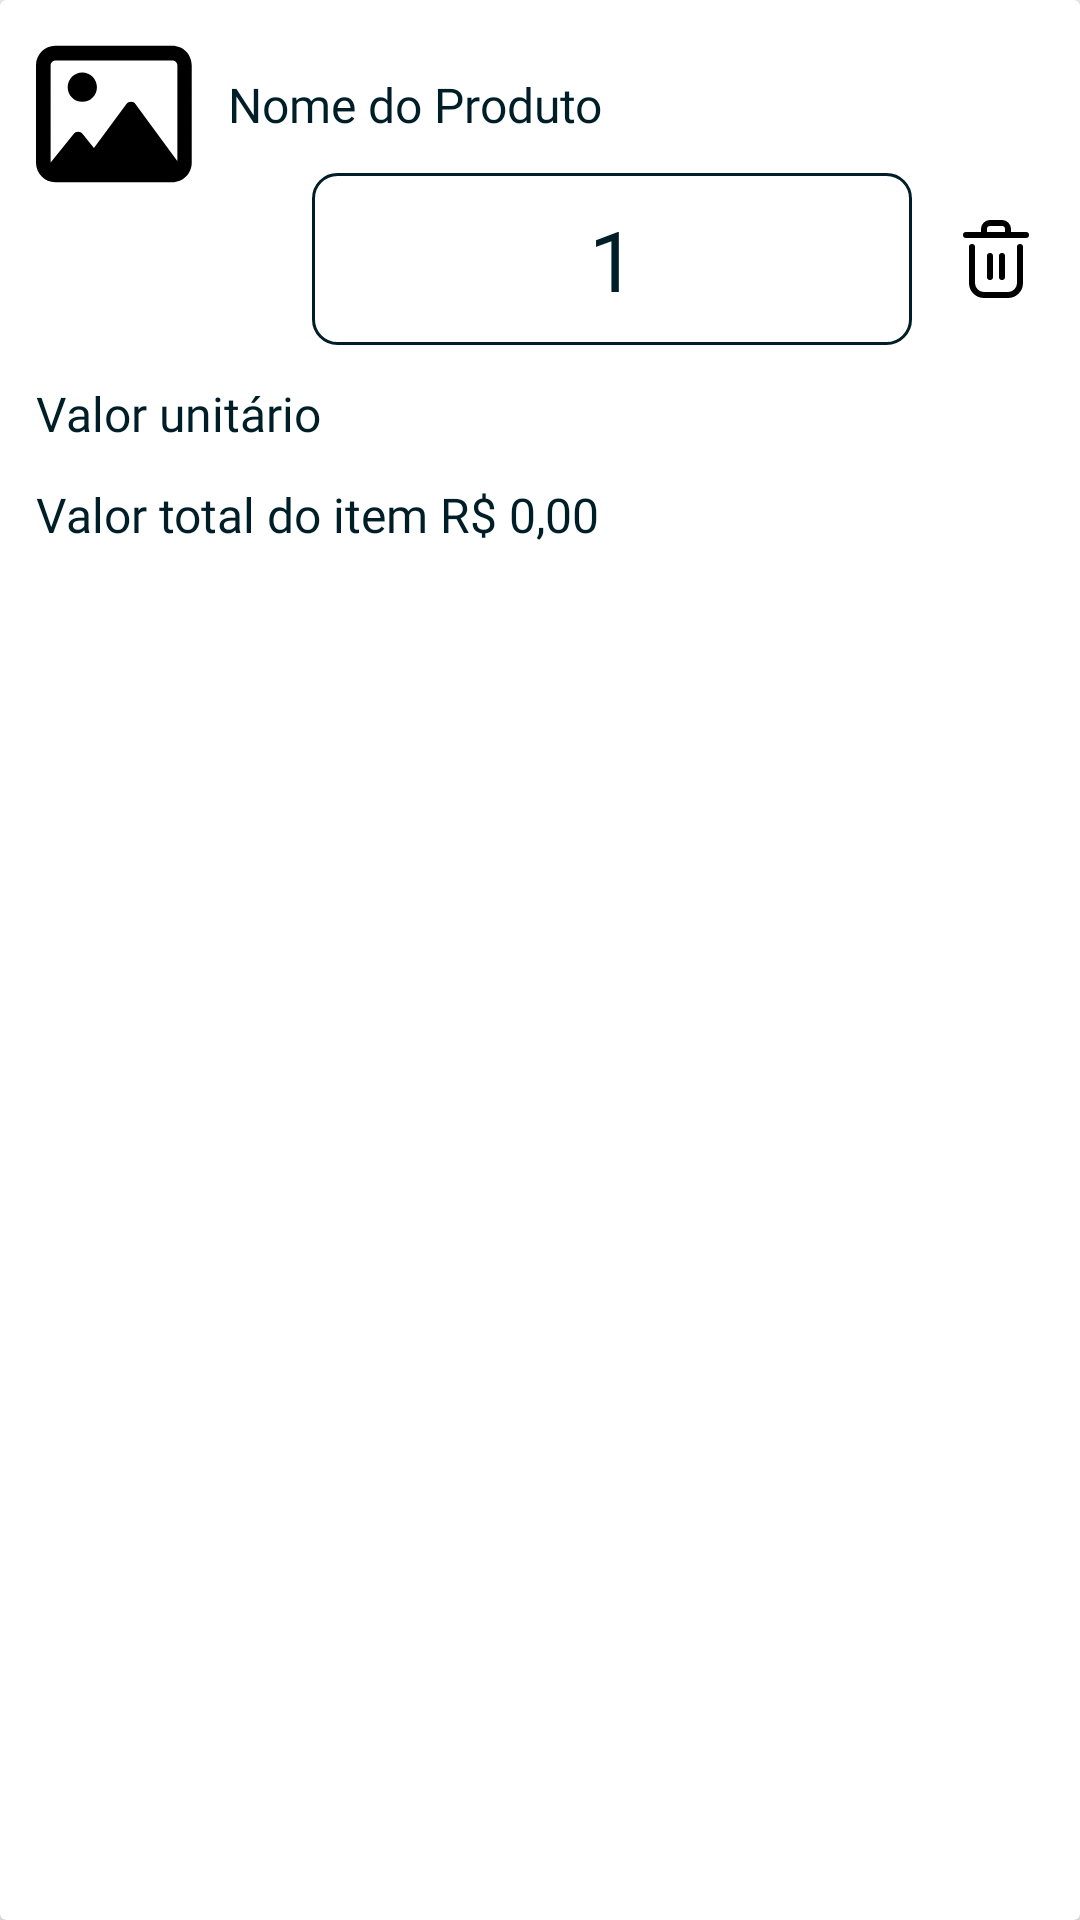

Where to tap for icons on this 1080x1920 app screen, as (x,y):
product photo: (114,114)
trash: (996,259)
